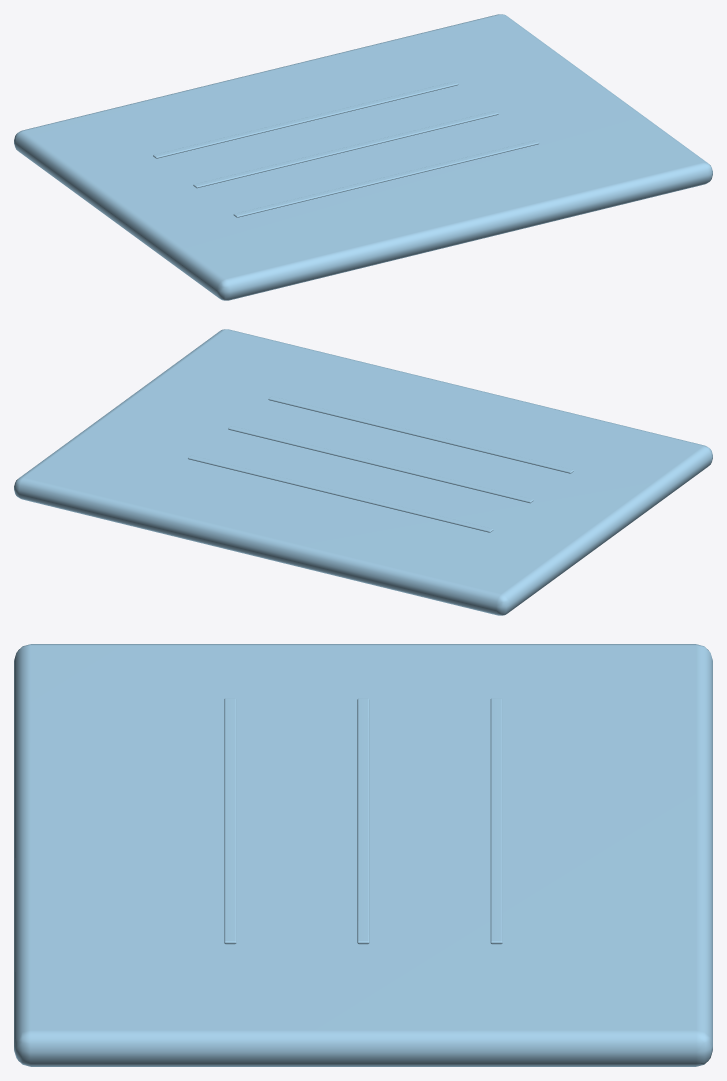
File: officeStickyNote6.glb
3 renders of one model, top to bottom at view 1: azimuth 30°, elevation 25°; view 2: azimuth 150°, elevation 25°; view 3: azimuth 270°, elevation 25°, orthographic. The views are drawn at different scales.
Parts seen in each view (by area): view 1: Paper, Printed line.001, Printed line, Printed line.002; view 2: Paper, Printed line.001, Printed line.002, Printed line; view 3: Paper, Printed line, Printed line.002, Printed line.001.
Boxes of the visible parts, left/top/right/bottom form: Paper: left=14, top=14, right=712, bottom=300; Printed line.001: left=193, top=111, right=498, bottom=188; Printed line: left=233, top=140, right=538, bottom=217; Printed line.002: left=153, top=81, right=458, bottom=158; Paper: left=14, top=329, right=712, bottom=615; Printed line.001: left=228, top=426, right=533, bottom=503; Printed line.002: left=188, top=455, right=493, bottom=532; Printed line: left=268, top=396, right=573, bottom=473; Paper: left=14, top=644, right=712, bottom=1066; Printed line: left=224, top=698, right=236, bottom=944; Printed line.002: left=490, top=698, right=502, bottom=944; Printed line.001: left=357, top=698, right=369, bottom=944.
Size of the model in its own units: 0.85 by 0.039 by 0.63.
